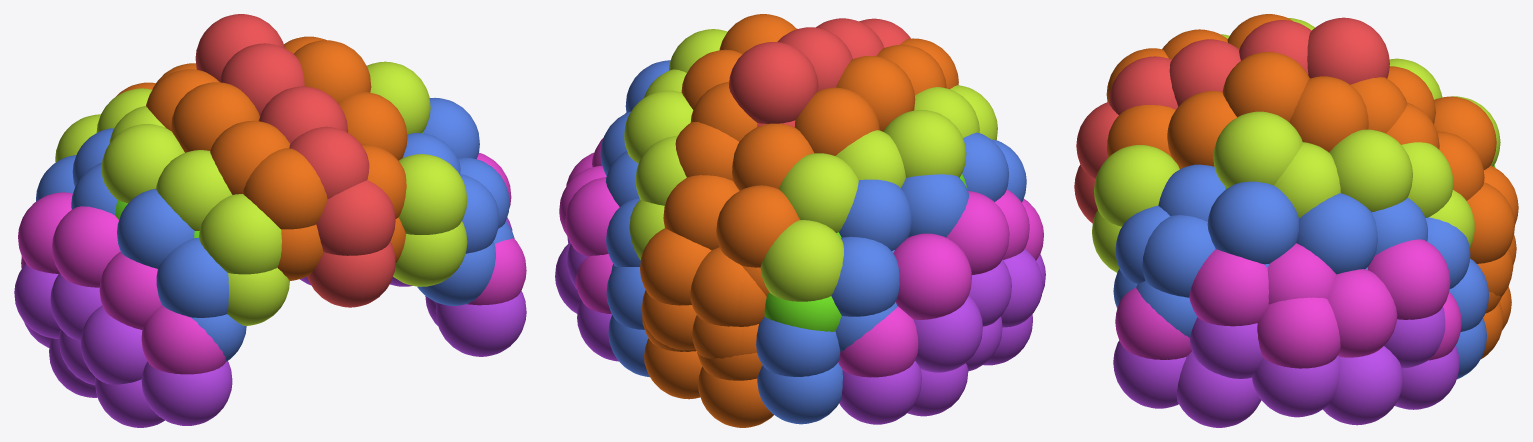
File: Hair.fbx
3 views of the same model, side by side, from view 1: azimuth 30°, elevation 25°; view 2: azimuth 150°, elevation 25°; view 3: azimuth 270°, elevation 25° (orthographic). The views are drawn at different scales.
Parts seen in each view (by area): view 1: Sphere.126, Sphere.131, Sphere.130, Sphere.129, Sphere.116, Sphere.123, Sphere.087, Sphere.025, Sphere.110, Sphere.028, Sphere.124, Sphere.117 (+36 smaller); view 2: Sphere.114, Sphere.083, Sphere.080, Sphere.101, Sphere.103, Sphere.084, Sphere.123, Sphere.122, Sphere.079, Sphere.106, Sphere.056, Sphere.081 (+55 smaller); view 3: Sphere.109, Sphere.119, Sphere.092, Sphere.111, Sphere.094, Sphere.098, Sphere.129, Sphere.089, Sphere.091, Sphere.114, Sphere.120, Sphere.044 (+43 smaller).
Boxes of the visible parts, bbox=[...] form: Sphere.126: bbox=[199, 194, 281, 274]; Sphere.131: bbox=[243, 148, 327, 229]; Sphere.130: bbox=[316, 180, 395, 255]; Sphere.129: bbox=[398, 154, 467, 234]; Sphere.116: bbox=[156, 237, 228, 317]; Sphere.123: bbox=[101, 124, 184, 203]; Sphere.087: bbox=[52, 206, 120, 287]; Sphere.025: bbox=[141, 361, 232, 425]; Sphere.110: bbox=[141, 305, 226, 374]; Sphere.028: bbox=[435, 291, 526, 356]; Sphere.124: bbox=[171, 82, 259, 152]; Sphere.117: bbox=[117, 188, 194, 268]; Sphere.114: bbox=[729, 42, 818, 123]; Sphere.083: bbox=[893, 233, 971, 319]; Sphere.080: bbox=[760, 220, 843, 301]; Sphere.101: bbox=[716, 185, 799, 267]; Sphere.103: bbox=[779, 153, 858, 232]; Sphere.084: bbox=[831, 236, 899, 316]; Sphere.123: bbox=[883, 110, 966, 177]; Sphere.122: bbox=[795, 87, 879, 155]; Sphere.079: bbox=[756, 316, 840, 376]; Sphere.106: bbox=[732, 123, 814, 190]; Sphere.056: bbox=[757, 362, 842, 424]; Sphere.081: bbox=[838, 306, 918, 377]; Sphere.109: bbox=[1207, 181, 1298, 264]; Sphere.119: bbox=[1213, 111, 1302, 187]; Sphere.092: bbox=[1257, 297, 1340, 368]; Sphere.111: bbox=[1329, 129, 1412, 212]; Sphere.094: bbox=[1189, 249, 1268, 326]; Sphere.098: bbox=[1296, 193, 1377, 274]; Sphere.129: bbox=[1094, 145, 1179, 226]; Sphere.089: bbox=[1368, 239, 1450, 319]; Sphere.091: bbox=[1327, 269, 1397, 357]; Sphere.114: bbox=[1307, 17, 1389, 84]; Sphere.120: bbox=[1222, 52, 1309, 122]; Sphere.044: bbox=[1323, 346, 1403, 425].
Size of the model in its own units: 113 by 82.93 by 97.75.
